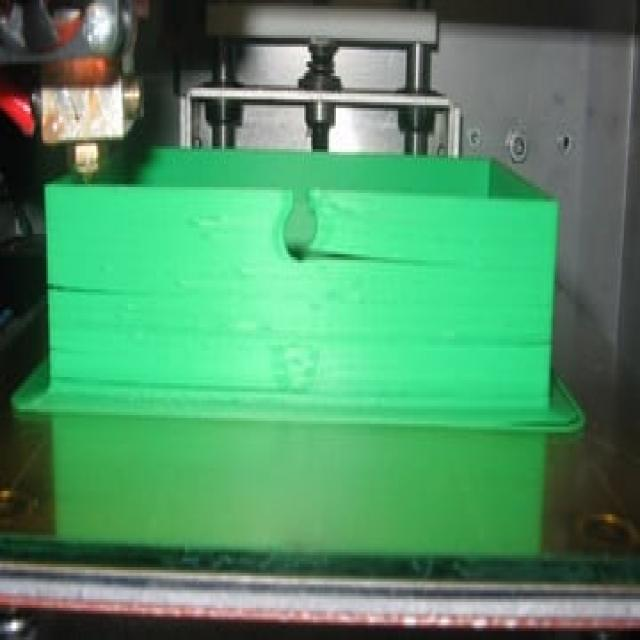cracks: (296, 232, 453, 289), (37, 268, 172, 320)
